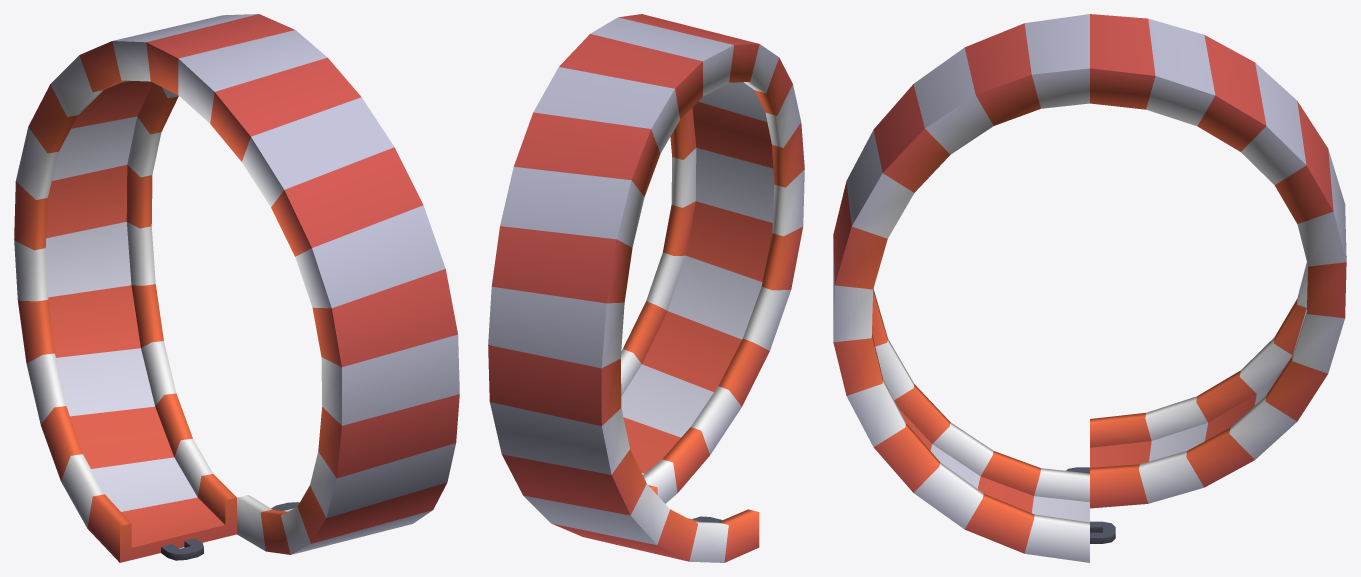
The model's file is track-striped-narrow-looping.glb.
3 views of the same model, side by side, from view 1: azimuth 30°, elevation 25°; view 2: azimuth 150°, elevation 25°; view 3: azimuth 270°, elevation 25° (orthographic). The views are drawn at different scales.
Visible parts, largest first — view 1: track-striped-narrow-looping; view 2: track-striped-narrow-looping; view 3: track-striped-narrow-looping.
Boxes of the visible parts, box(x1,y1,x2,y2) form: track-striped-narrow-looping: box(14, 14, 459, 562); track-striped-narrow-looping: box(488, 14, 804, 562); track-striped-narrow-looping: box(833, 14, 1346, 562).
Bounding box in the file's own units: 2 × 4 × 3.98.
Materials: 1 (1 with a texture image).
